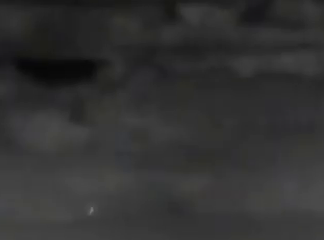Target: (91, 207, 93, 212)
